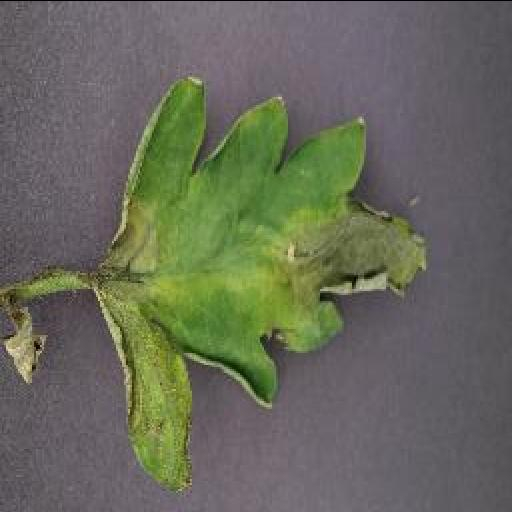disease_tomato: (91, 74, 437, 492)
